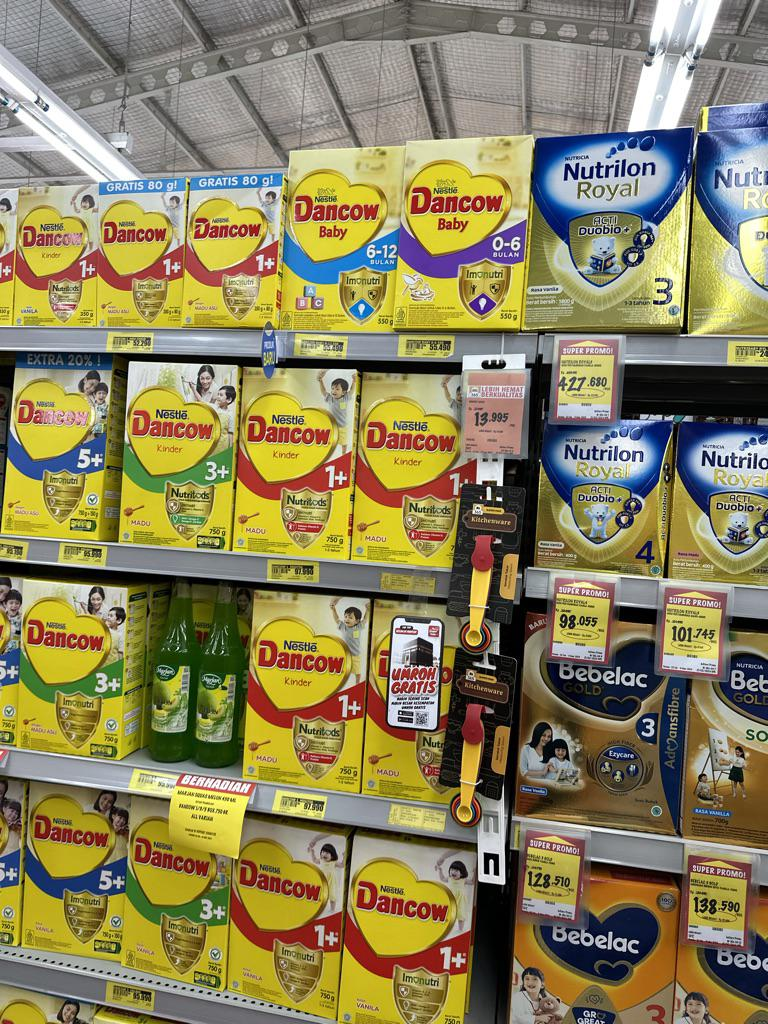DANCOW 1+ Van Advn ExcNutr 12x800g N1 ID_REDESIGN3: (337, 836, 477, 1023), (226, 824, 342, 1020)
DANCOW 3+ Madu Advn ExcNutr 12x800g ID_REDESIGN3: (18, 582, 128, 760)
